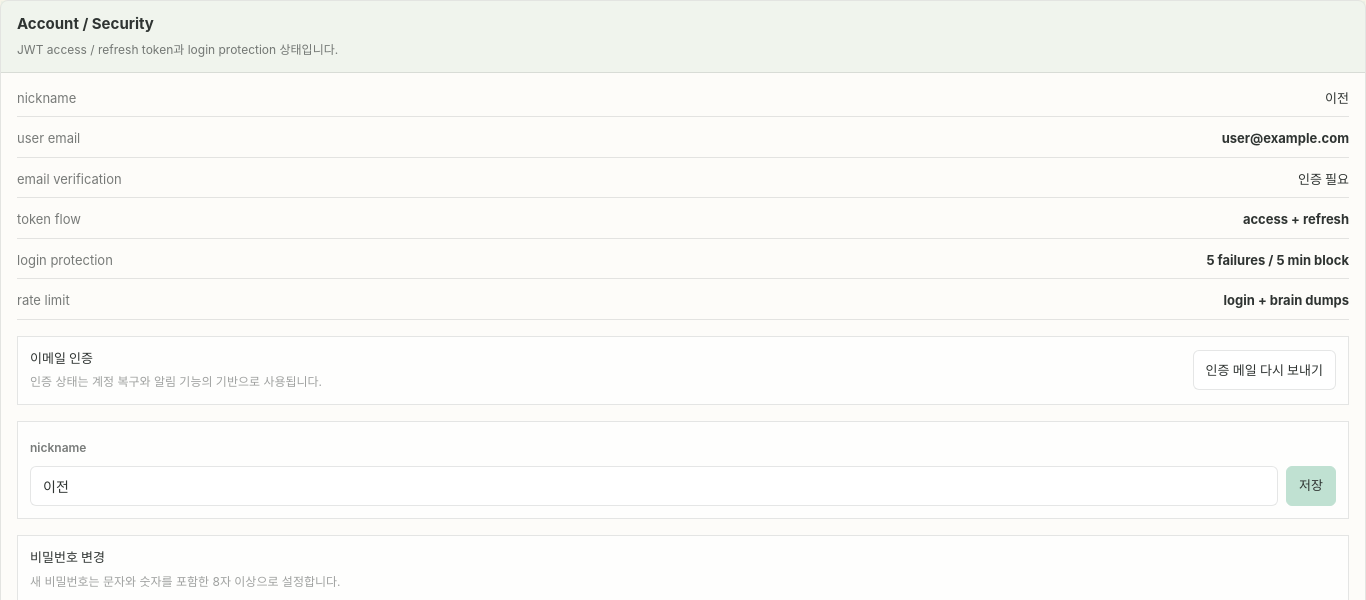
it: AccountPanel › shows email verification status and resends verification
This screenshot has width=1366, height=600.
expect the text "인증 필요" is shown: met, box [1298, 170, 1349, 189]
Click the button "인증 메일 다시 보내기". click: point(1264, 370)
box: [1192, 350, 1336, 390]
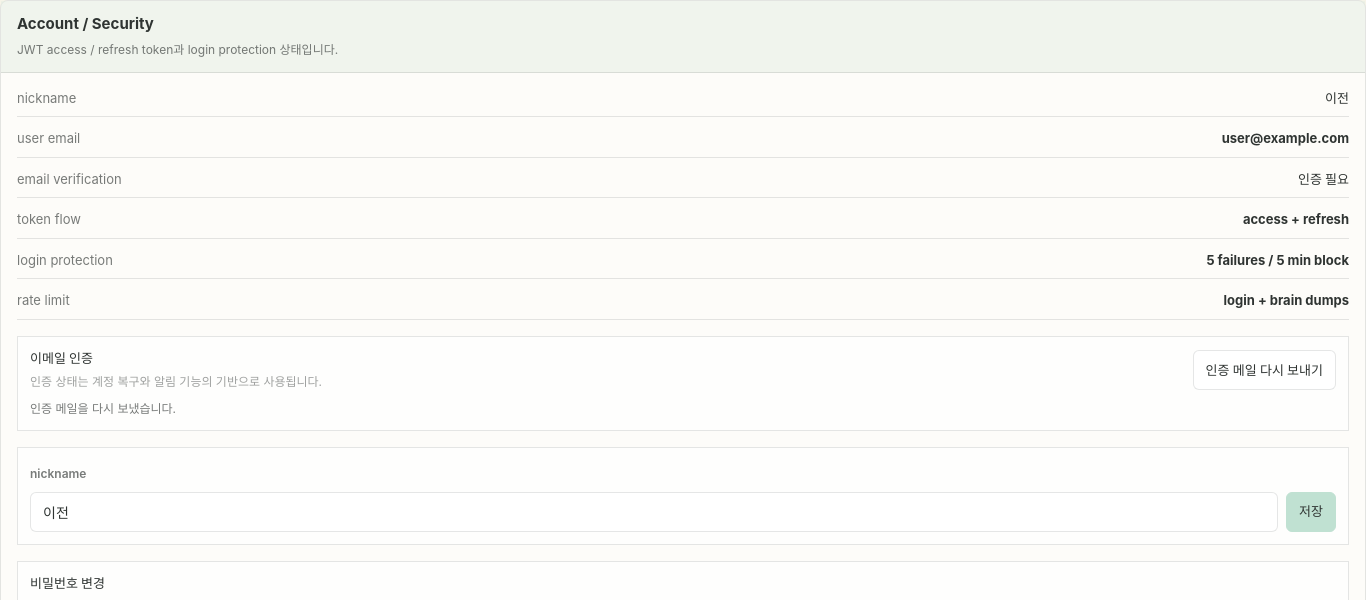
expect the text "인증 메일을 다시 보냈습니다." is shown: met, box [30, 401, 176, 416]
